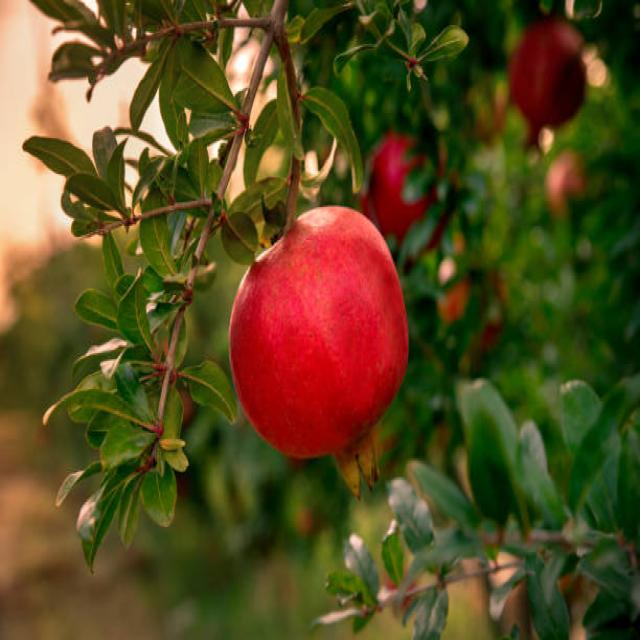Ripe: (228, 193, 417, 502)
